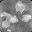people: (15, 1, 25, 14), (8, 14, 19, 23), (1, 20, 12, 28), (21, 14, 31, 22), (1, 11, 9, 18)
